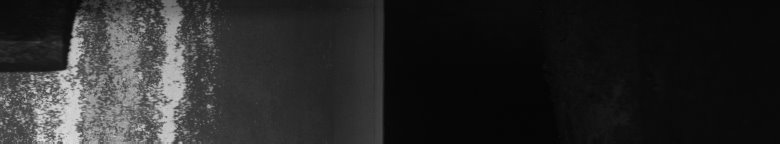kb: (4, 4, 220, 136)
